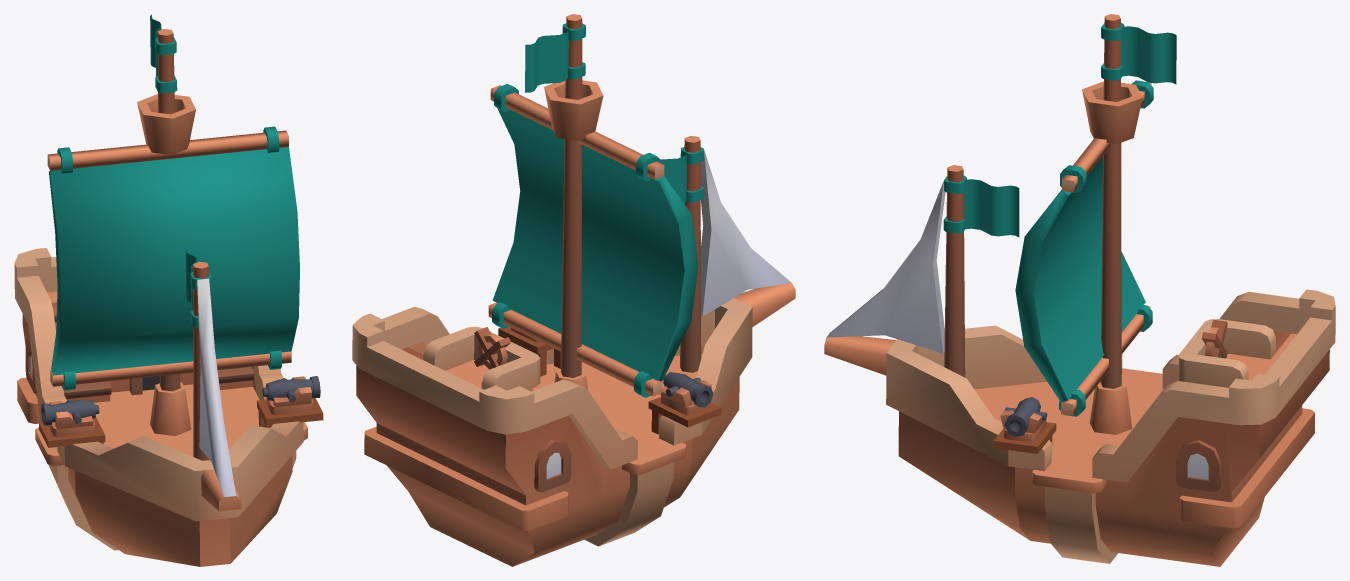
Rendered from ship_scout.glb.
3 views of the same model, side by side, from view 1: azimuth 30°, elevation 25°; view 2: azimuth 150°, elevation 25°; view 3: azimuth 270°, elevation 25° (orthographic). The views are drawn at different scales.
Visible parts, largest first — view 1: sail-a.010, Hull + rigging.004, Fitted cannon.018, Fitted cannon.019, flag-b.007, Gun platform • timber saddle.019, Gun platform • timber saddle.018, flag-a.007, Group.048, Group.047; view 2: Hull + rigging.004, sail-a.010, flag-b.007, Fitted cannon.018, flag-a.007, Gun platform • timber saddle.018, Gun platform • timber saddle.019; view 3: Hull + rigging.004, sail-a.010, flag-a.007, flag-b.007, Fitted cannon.019, Gun platform • timber saddle.019.
Part boxes in pixels (x1,y1,x2,y2): sail-a.010: [47, 126, 299, 390]; Hull + rigging.004: [14, 29, 307, 566]; Fitted cannon.018: [41, 399, 99, 437]; Fitted cannon.019: [262, 376, 320, 415]; flag-b.007: [150, 14, 177, 93]; Gun platform • timber saddle.019: [257, 398, 323, 425]; Gun platform • timber saddle.018: [39, 417, 105, 447]; flag-a.007: [185, 249, 212, 327]; Group.048: [273, 387, 311, 407]; Group.047: [55, 411, 93, 429]; Hull + rigging.004: [352, 14, 795, 566]; sail-a.010: [488, 84, 698, 397]; flag-b.007: [525, 23, 585, 92]; Fitted cannon.018: [660, 372, 713, 415]; flag-a.007: [661, 147, 703, 203]; Gun platform • timber saddle.018: [648, 397, 721, 427]; Gun platform • timber saddle.019: [498, 326, 553, 354]; Hull + rigging.004: [824, 14, 1335, 566]; sail-a.010: [1015, 80, 1153, 416]; flag-a.007: [943, 175, 1019, 237]; flag-b.007: [1101, 22, 1176, 84]; Fitted cannon.019: [1003, 397, 1046, 442]; Gun platform • timber saddle.019: [993, 422, 1056, 453].
Size of the model in its own units: 5.57 by 9.48 by 8.52.
4 materials, 2 textured.
